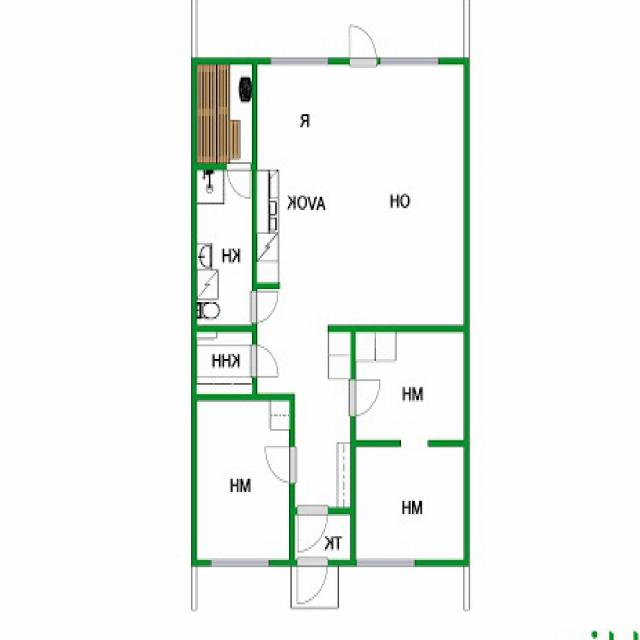door: (298, 558, 327, 606), (298, 507, 328, 552), (349, 21, 376, 64), (350, 380, 382, 416), (262, 447, 294, 482), (252, 292, 281, 323), (227, 162, 250, 200), (252, 345, 280, 376)
